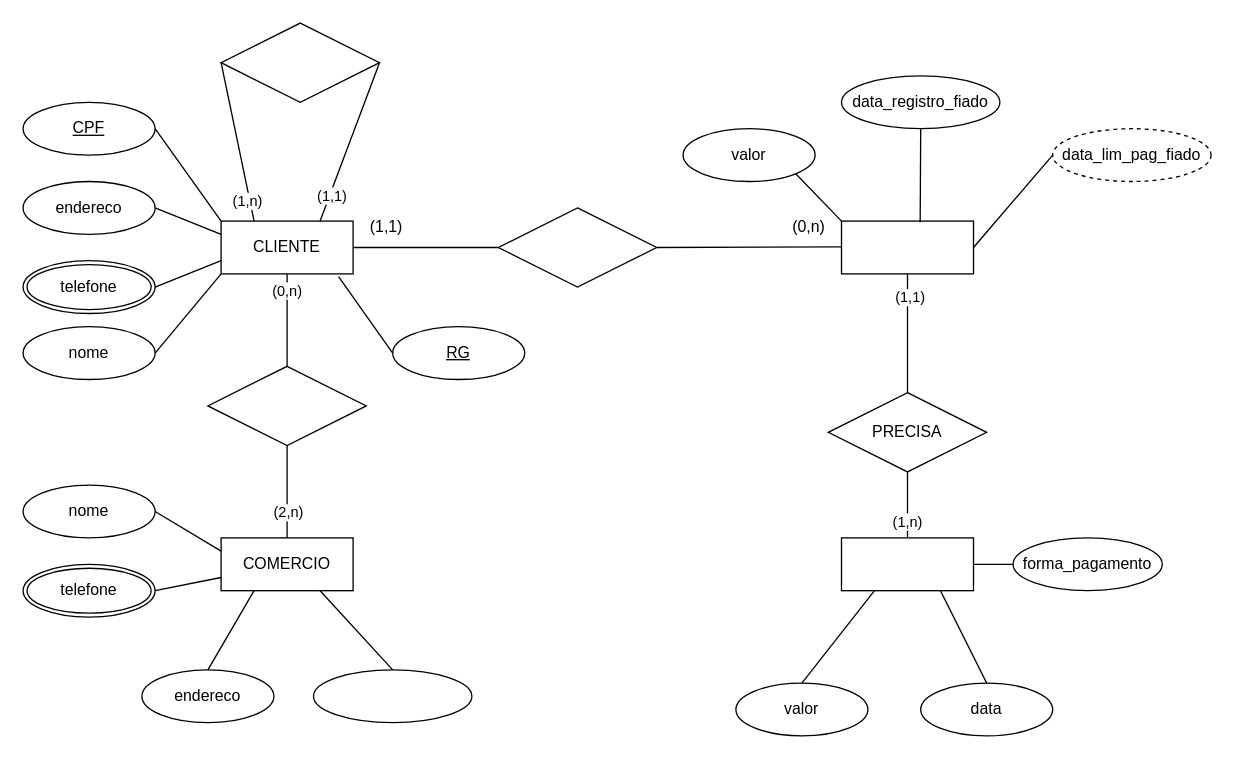
The diagram is 1234 pixels wide and 759 high, and some of its shapes have lost their labels. The shapes that lost their labels are listed below. From the top down, each one's centre as x and y in pixels, then its label:
At (300,62): "TUTOR".
At (577,247): "COMPRA".
At (907,247): "FIADO".
At (286,405): "FREQUENTA".
At (907,564): "PAGAMENTO".
At (392,696): "Tempo_Frequencia".
